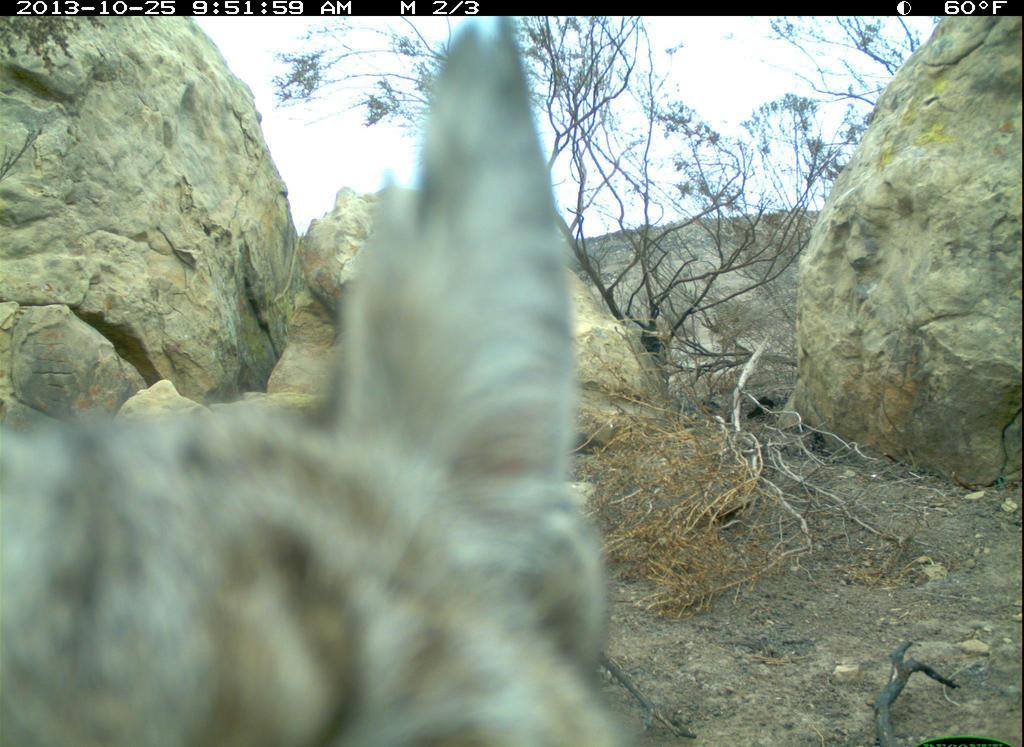bobcat: (2, 21, 632, 747)
